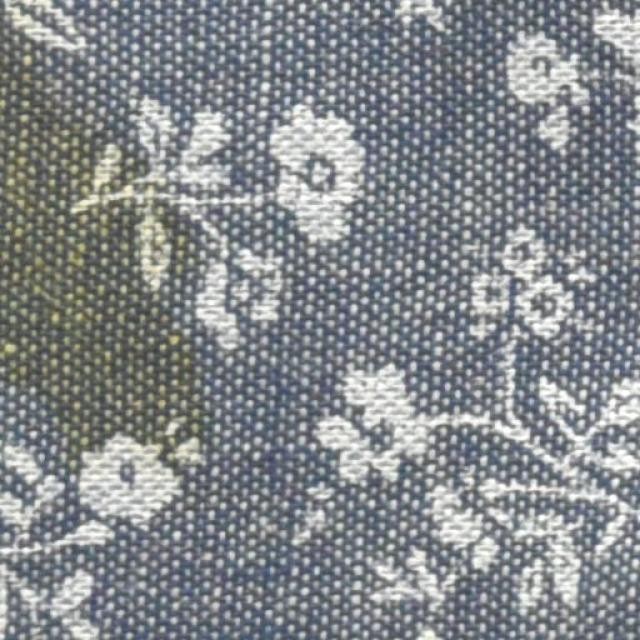Stain: (0, 9, 232, 472)
